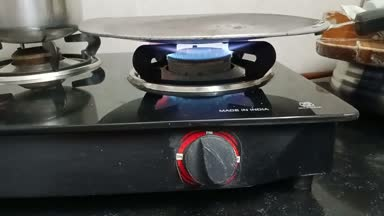flame_gas_on: (145, 43, 263, 193)
